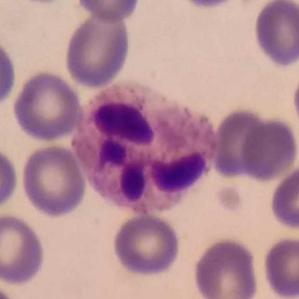Neutrophil: (70, 74, 225, 224)
RBC: (62, 8, 133, 90), (11, 69, 85, 143), (19, 142, 88, 220), (110, 212, 183, 279), (209, 107, 274, 181), (190, 235, 262, 299), (238, 115, 298, 183), (0, 211, 48, 286), (251, 0, 299, 69), (260, 234, 299, 299), (267, 162, 299, 232), (74, 0, 144, 24), (0, 33, 19, 111), (0, 144, 21, 214), (290, 64, 299, 138), (182, 0, 232, 11)
